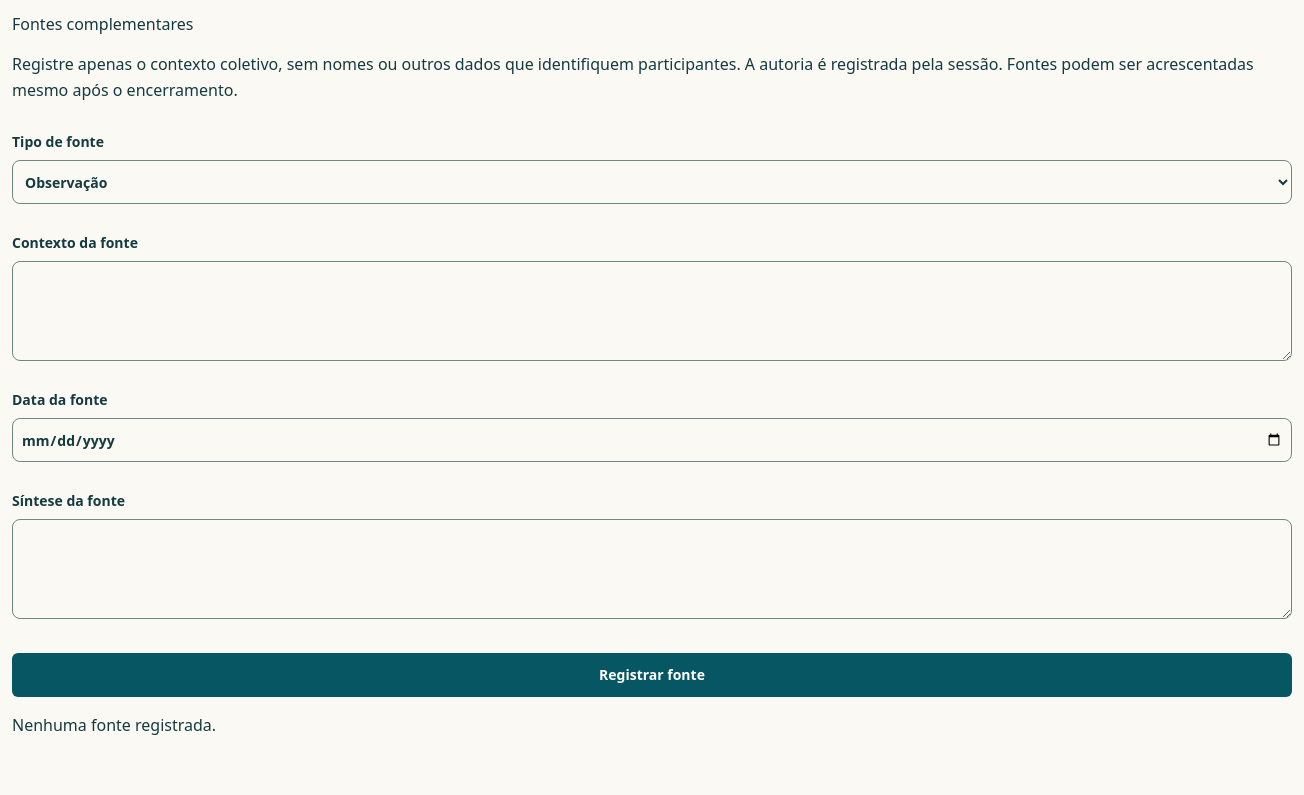
Test: preserva fonte após 503, envia data civil e usa autoria da resposta
Type "Rotina da equipe" into the text box labelled "Contexto da fonte".
click(652, 311); type("Rotina da equipe")  # box [12,261,1292,361]
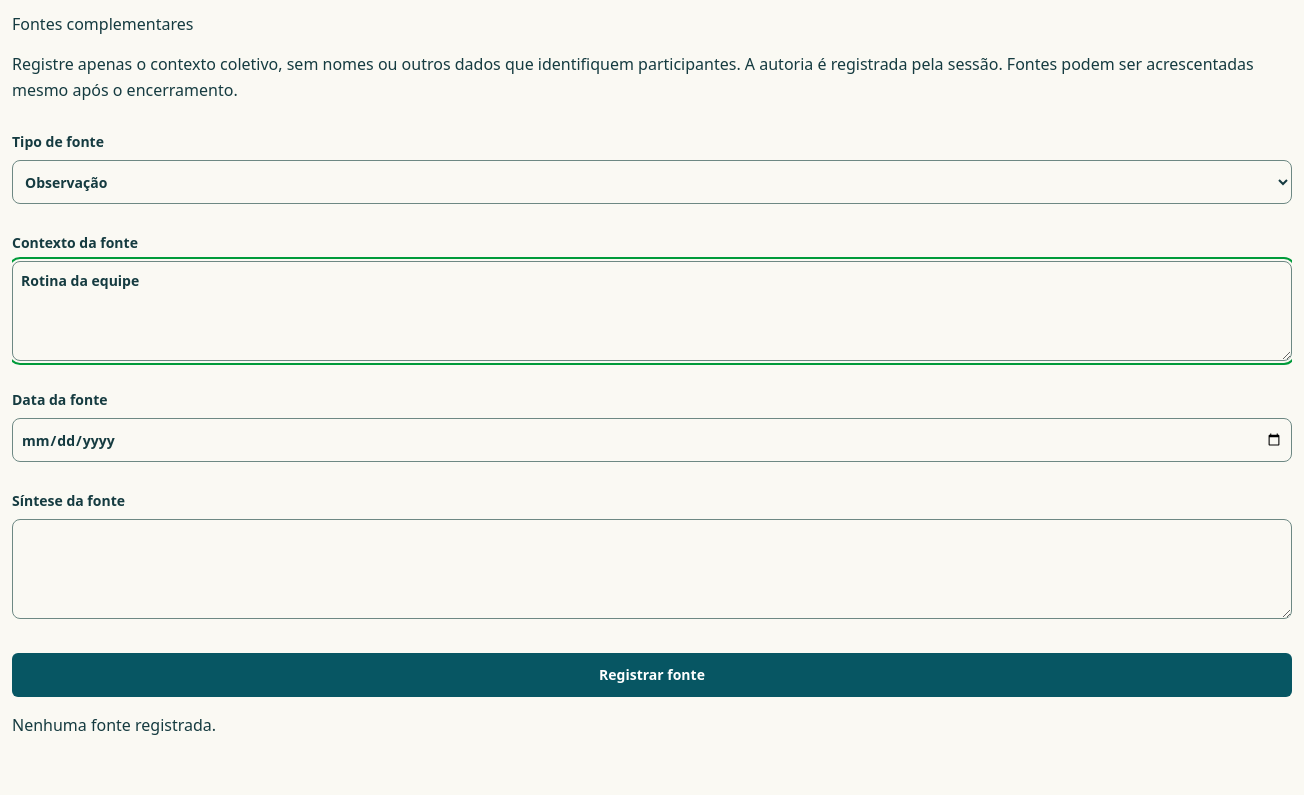
Type "2026-10-23" into the date field labelled "Data da fonte".
click(652, 440); type("2026-10-23")  # box [12,418,1292,462]
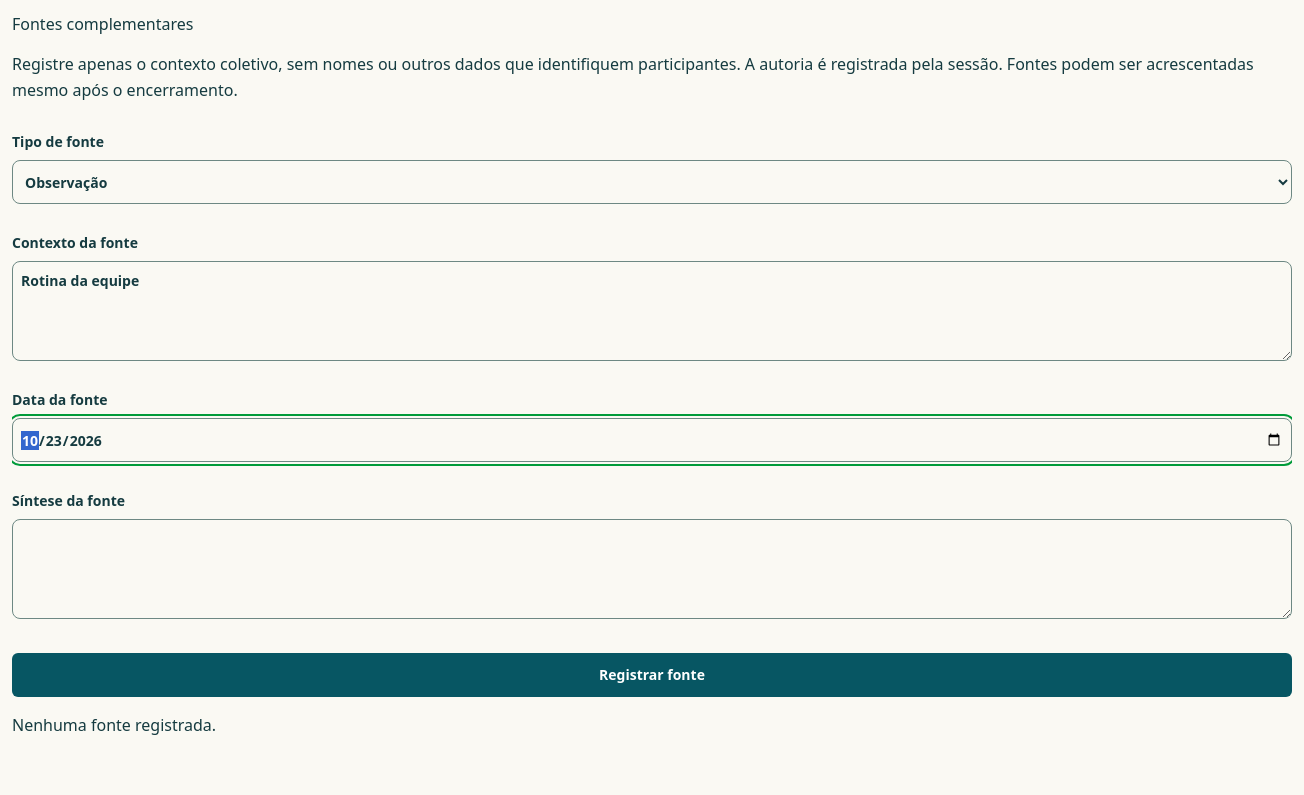
Type "Síntese da oficina coletiva" into the text box labelled "Síntese da fonte".
click(652, 569); type("Síntese da oficina coletiva")  # box [12,519,1292,619]
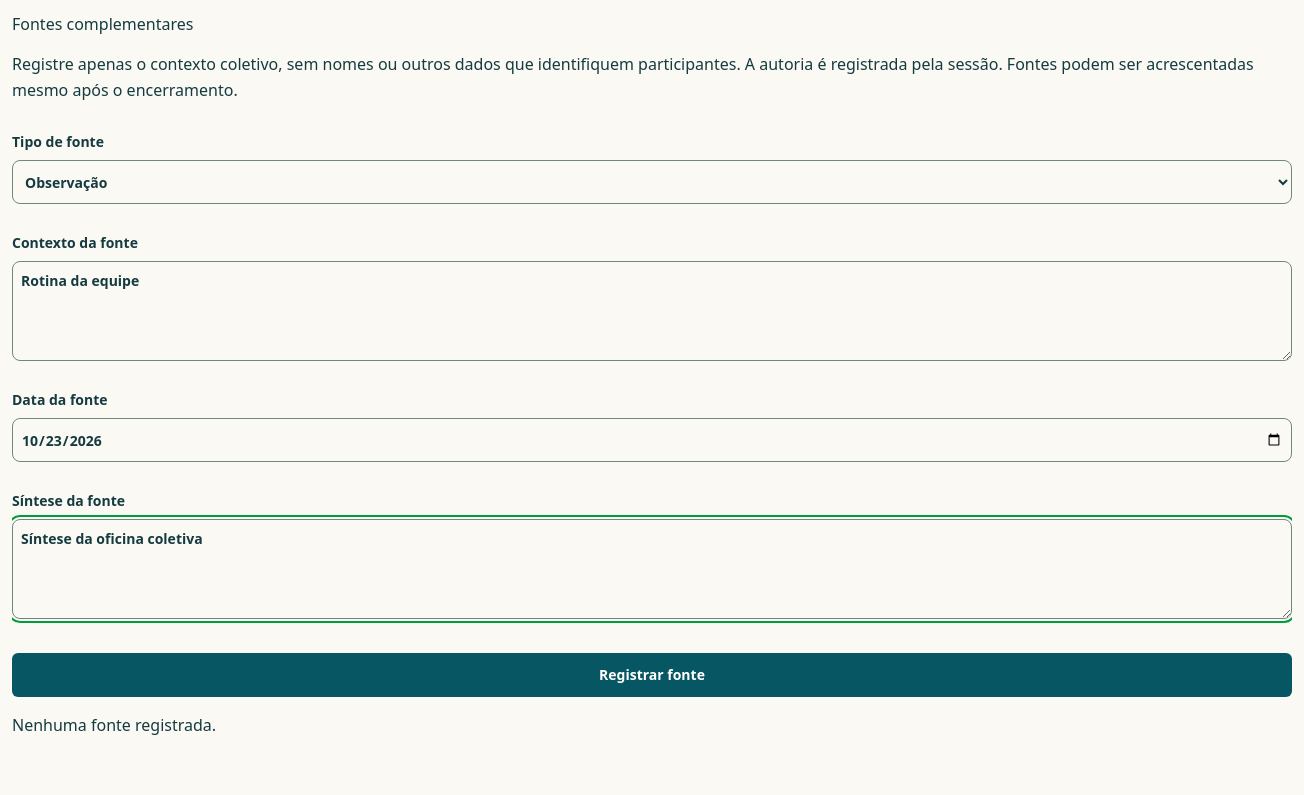
Click the button "Registrar fonte".
click(652, 675)  # box [12,653,1292,697]
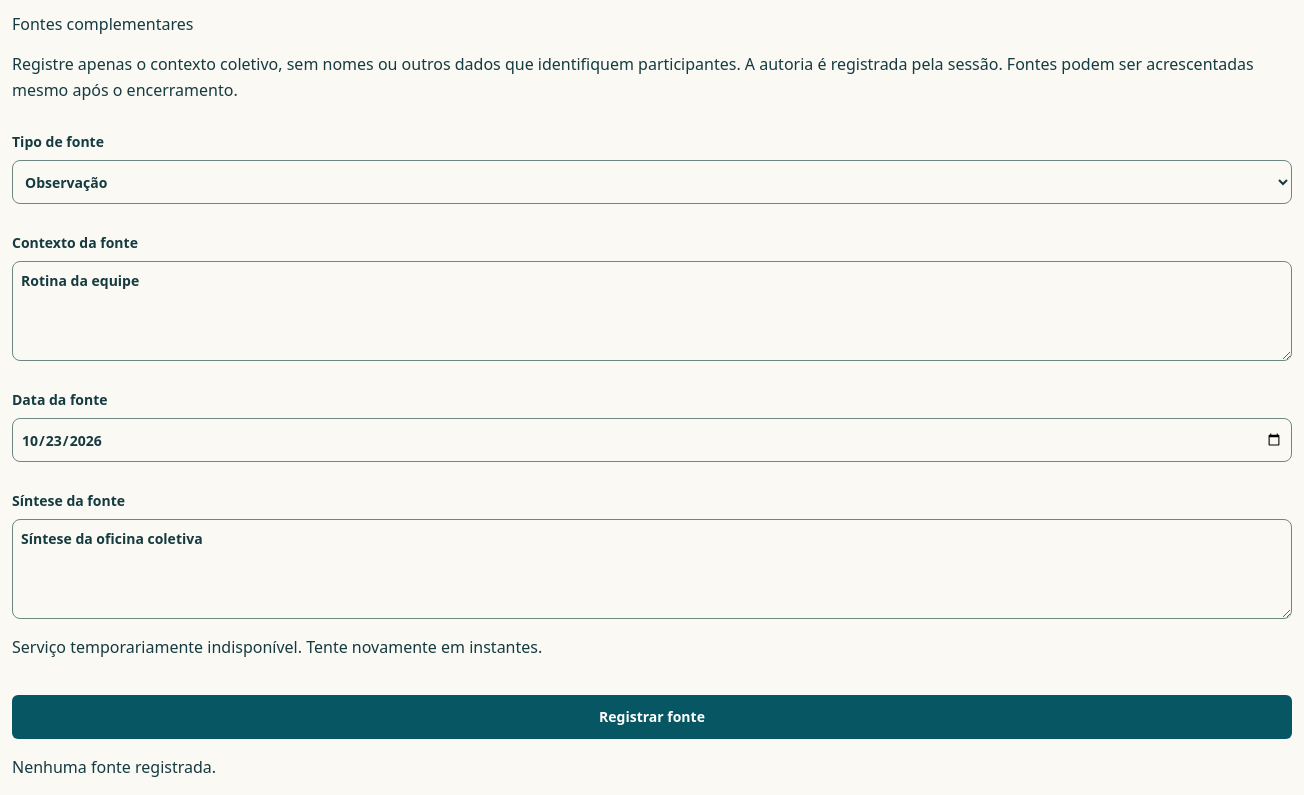
Check: the message shows "temporariamente indisponível", box [12,636,542,658]
Click the button "Registrar fonte".
click(652, 717)  # box [12,695,1292,739]
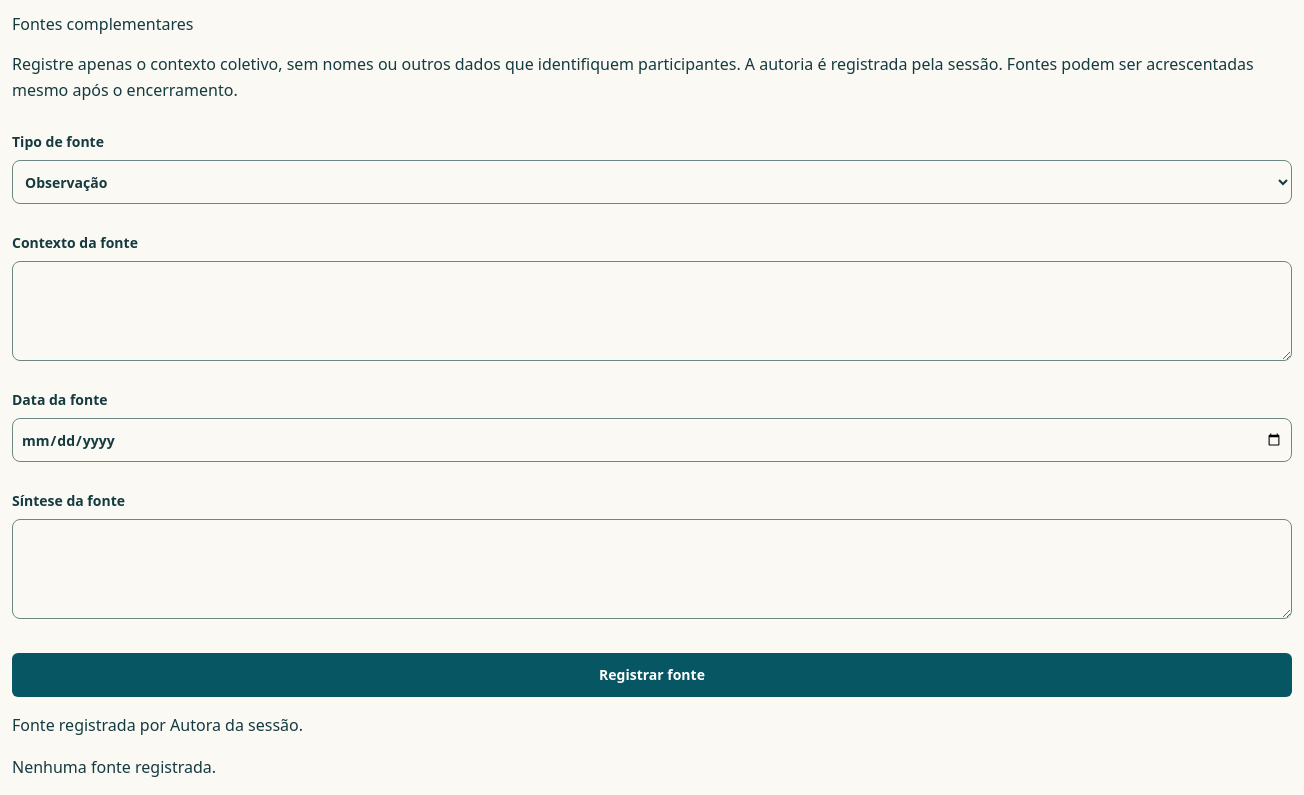
Check: the text "Fonte registrada por Autora da sessão." is shown, box [12,714,303,736]
Check: the text box labelled "Contexto da fonte" is empty, box [12,261,1292,361]
